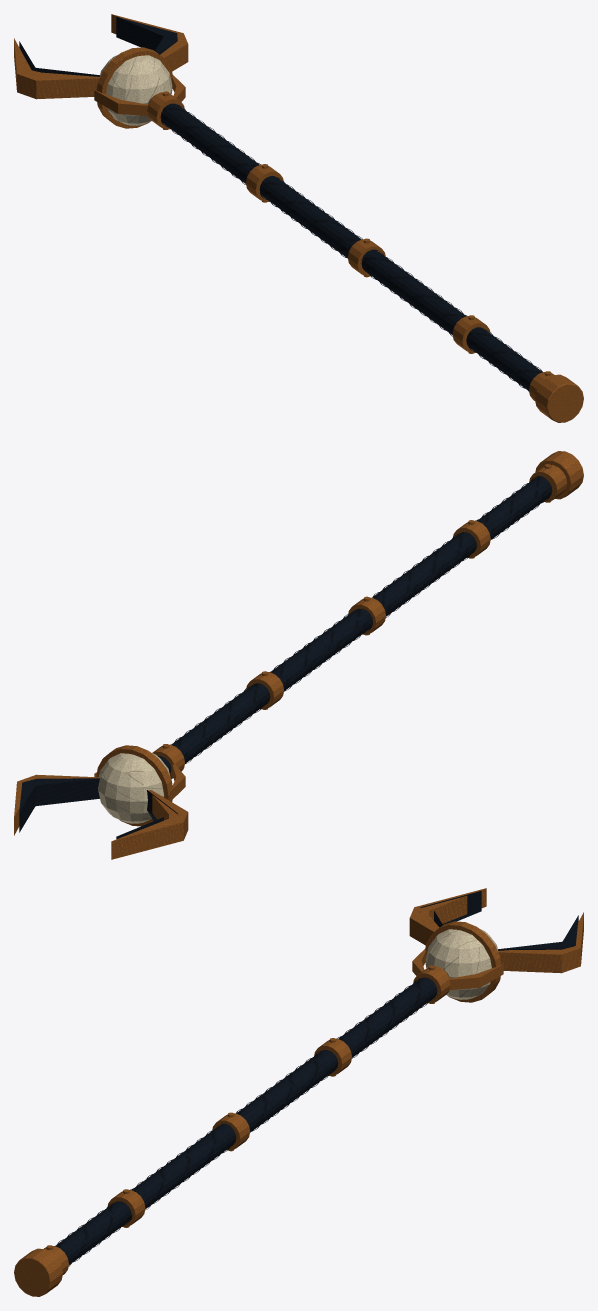
The model's file is storm-conductor-staff-ready.glb.
3 views of the same model, one above another, from view 1: azimuth 30°, elevation 25°; view 2: azimuth 150°, elevation 25°; view 3: azimuth 330°, elevation 25° (orthographic).
Visible parts, largest first — view 1: Dark woven shaft grip, Ivory conductor pearl, Copper fork tine shell, Staff flared pommel, Dark fork tine inset.001, Orb equatorial copper cradle, Copper fork tine shell.001, Conductor cradle horn, Copper staff segmented ferrule.001, Copper staff segmented ferrule.003, Copper staff segmented ferrule.004, Copper staff segmented ferrule.002; view 2: Dark woven shaft grip, Ivory conductor pearl, Copper fork tine shell, Dark fork tine inset.001, Orb equatorial copper cradle, Staff flared pommel, Copper staff segmented ferrule, Copper staff segmented ferrule.003, Copper staff segmented ferrule.001, Copper staff segmented ferrule.002, Copper fork tine shell.001; view 3: Dark woven shaft grip, Ivory conductor pearl, Copper fork tine shell.001, Staff flared pommel, Copper fork tine shell, Orb equatorial copper cradle, Conductor cradle horn.001, Copper staff segmented ferrule.001, Copper staff segmented ferrule.003, Copper staff segmented ferrule.002, Copper staff segmented ferrule.004, Dark fork tine inset.001 (+1 smaller).
Boxes of the visible parts, left/top/right/bottom form: Dark woven shaft grip: left=148, top=96, right=542, bottom=389; Ivory conductor pearl: left=99, top=54, right=172, bottom=125; Copper fork tine shell: left=14, top=38, right=99, bottom=99; Staff flared pommel: left=535, top=374, right=583, bottom=422; Dark fork tine inset.001: left=116, top=17, right=177, bottom=54; Orb equatorial copper cradle: left=96, top=47, right=172, bottom=128; Copper fork tine shell.001: left=111, top=14, right=188, bottom=71; Conductor cradle horn: left=94, top=90, right=148, bottom=115; Copper staff segmented ferrule.001: left=452, top=316, right=490, bottom=353; Copper staff segmented ferrule.003: left=246, top=164, right=283, bottom=201; Copper staff segmented ferrule.004: left=147, top=92, right=184, bottom=129; Copper staff segmented ferrule.002: left=347, top=239, right=385, bottom=276; Dark woven shaft grip: left=158, top=477, right=552, bottom=773; Ivory conductor pearl: left=98, top=753, right=170, bottom=823; Copper fork tine shell: left=111, top=790, right=188, bottom=859; Dark fork tine inset.001: left=19, top=778, right=99, bottom=832; Orb equatorial copper cradle: left=96, top=745, right=172, bottom=826; Staff flared pommel: left=535, top=451, right=583, bottom=499; Copper staff segmented ferrule: left=529, top=465, right=567, bottom=501; Copper staff segmented ferrule.003: left=246, top=672, right=283, bottom=709; Copper staff segmented ferrule.001: left=453, top=521, right=490, bottom=557; Copper staff segmented ferrule.002: left=348, top=597, right=385, bottom=634; Copper fork tine shell.001: left=14, top=774, right=99, bottom=835; Dark woven shaft grip: left=55, top=970, right=449, bottom=1264; Ivory conductor pearl: left=425, top=928, right=498, bottom=999; Copper fork tine shell.001: left=498, top=912, right=583, bottom=973; Staff flared pommel: left=14, top=1248, right=62, bottom=1296; Copper fork tine shell: left=409, top=888, right=486, bottom=945; Orb equatorial copper cradle: left=425, top=921, right=501, bottom=1002; Conductor cradle horn.001: left=449, top=964, right=503, bottom=989; Copper staff segmented ferrule.001: left=107, top=1190, right=145, bottom=1227; Copper staff segmented ferrule.003: left=314, top=1038, right=351, bottom=1075; Copper staff segmented ferrule.002: left=212, top=1113, right=250, bottom=1150; Copper staff segmented ferrule.004: left=413, top=966, right=450, bottom=1003; Dark fork tine inset.001: left=498, top=915, right=578, bottom=950.
Size of the model in its own units: 0.34 by 0.148 by 1.78.
Materials: 3 (3 with a texture image).
